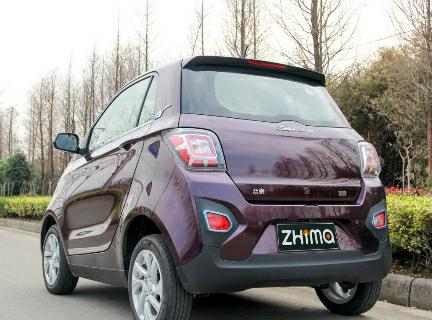众泰-芝麻: (34, 54, 398, 320)
